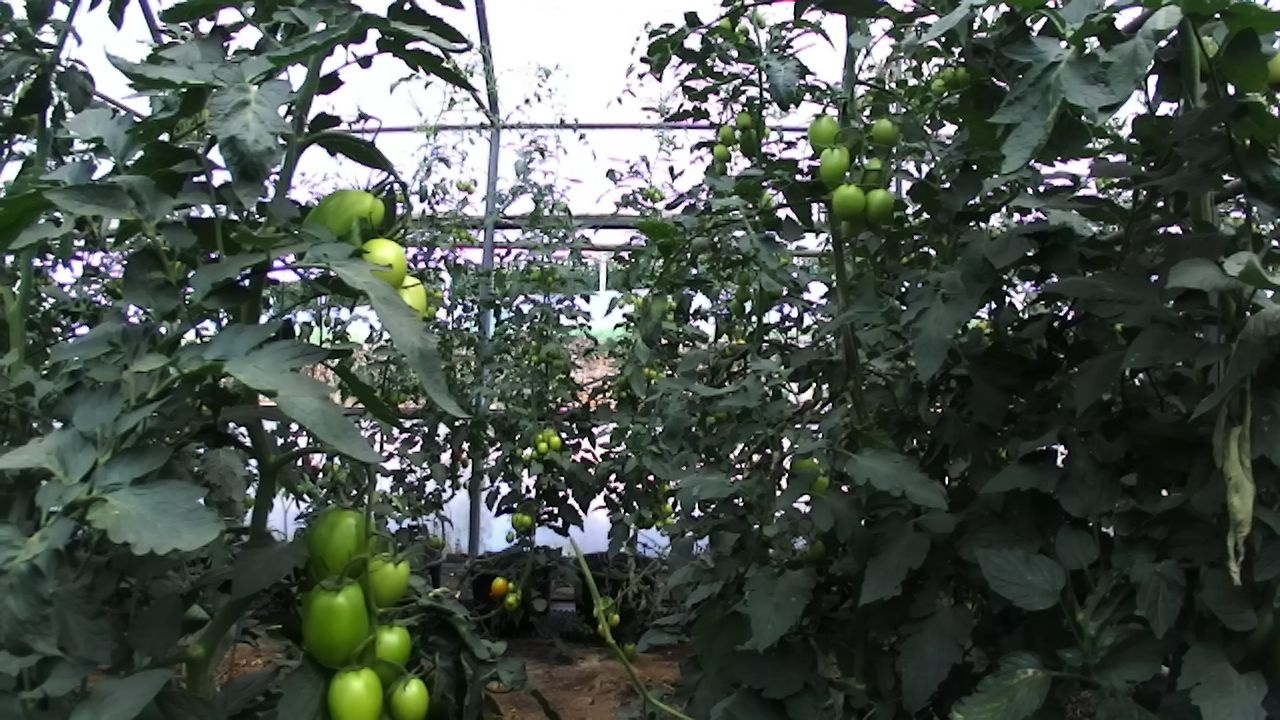tomato: (286, 560, 392, 683), (297, 492, 386, 598), (290, 179, 397, 261), (358, 610, 422, 698), (358, 537, 425, 616), (347, 227, 419, 300), (320, 654, 394, 720), (380, 667, 440, 720), (805, 105, 851, 163), (812, 137, 858, 195), (825, 178, 872, 227), (864, 111, 910, 160), (861, 183, 896, 230), (714, 120, 741, 149), (498, 589, 525, 617), (925, 73, 953, 100), (732, 108, 757, 135), (488, 573, 512, 601), (710, 141, 736, 166), (507, 508, 528, 533), (545, 433, 565, 453), (516, 511, 535, 530), (533, 438, 551, 457)
